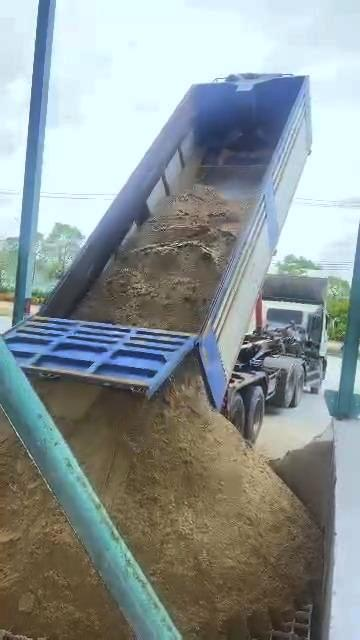sand: (36, 360, 321, 639), (1, 416, 123, 639), (73, 185, 252, 331), (272, 428, 331, 528)
